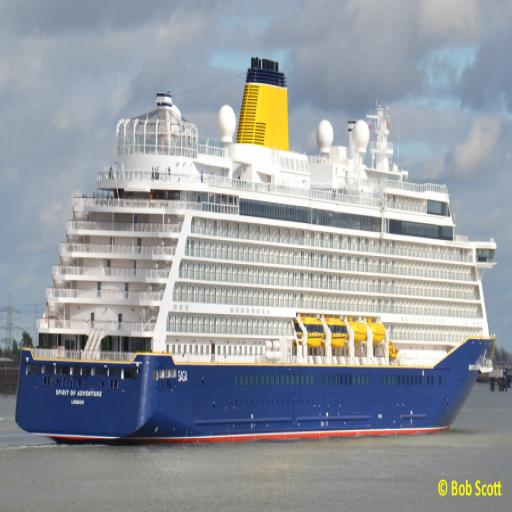cruises: (12, 53, 501, 455)
